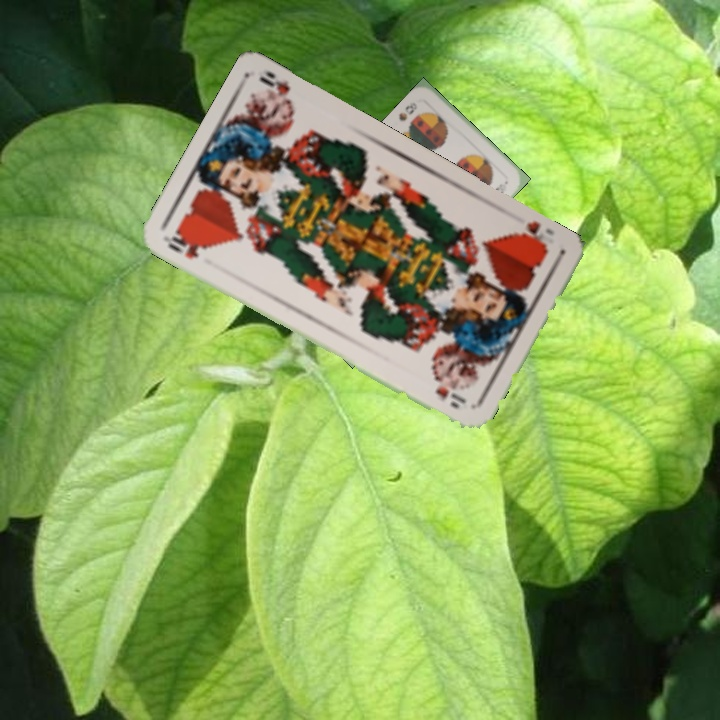HO: (162, 227, 208, 262), (510, 217, 551, 255)
S8: (395, 98, 420, 123)
